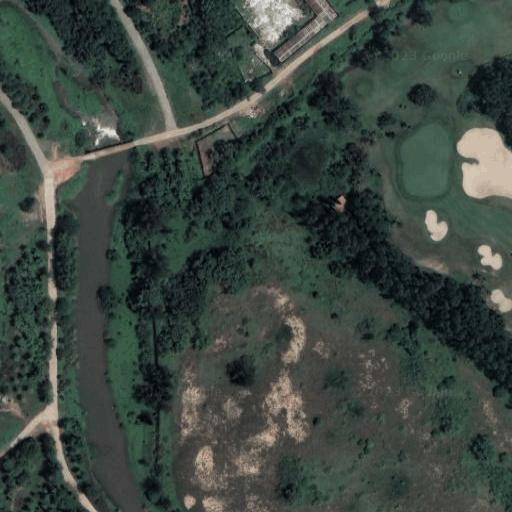building: (188, 120, 246, 178), (274, 13, 328, 63), (230, 46, 271, 88)
